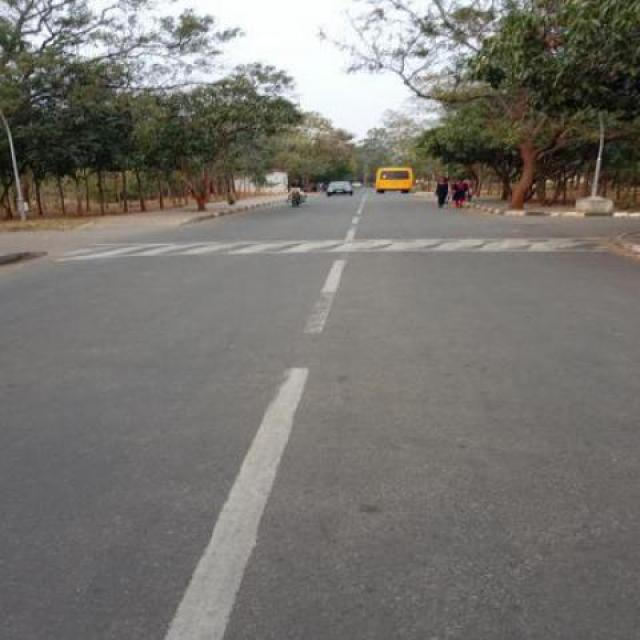Speed Bump: (53, 235, 608, 258)
